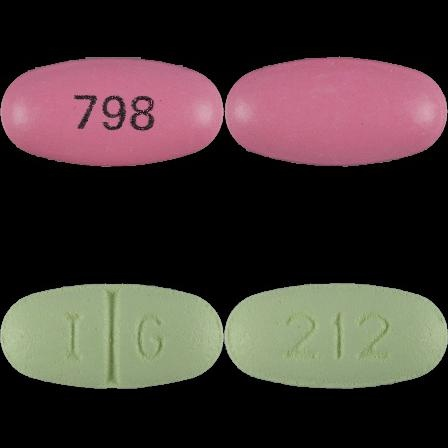16590-648: (0, 0, 224, 224)
